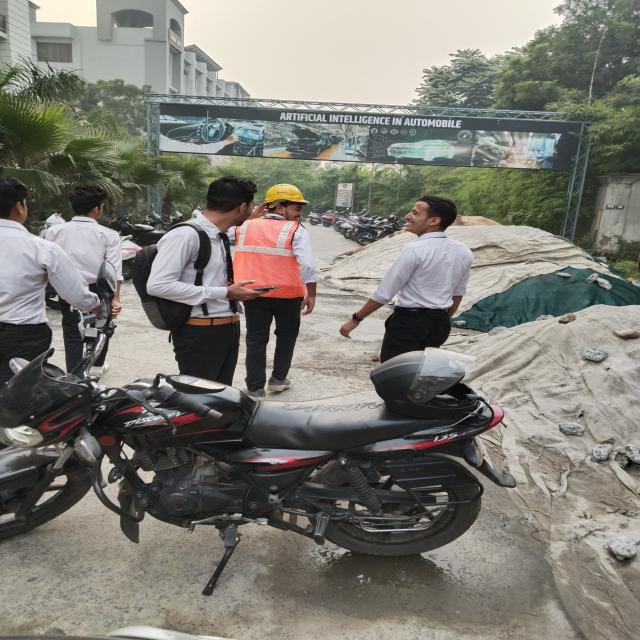safe: (238, 182, 315, 394)
unsafe: (155, 172, 260, 377), (46, 188, 125, 374), (380, 193, 469, 353), (0, 171, 64, 377)
